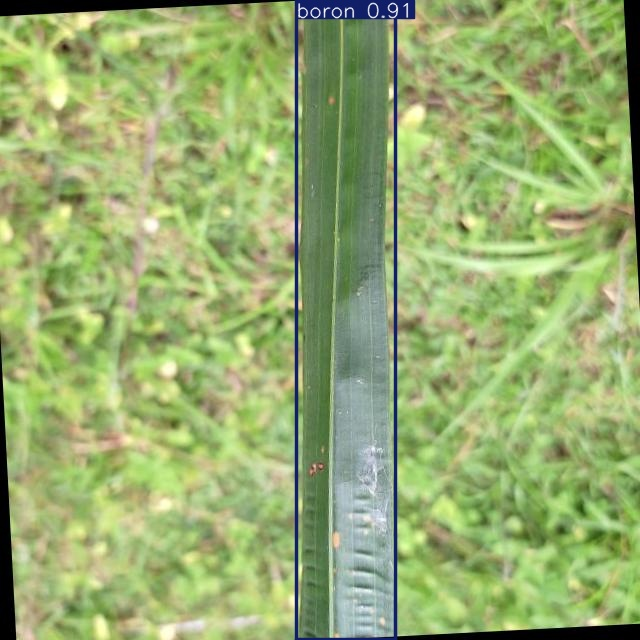nitrogen: (297, 0, 396, 640)
